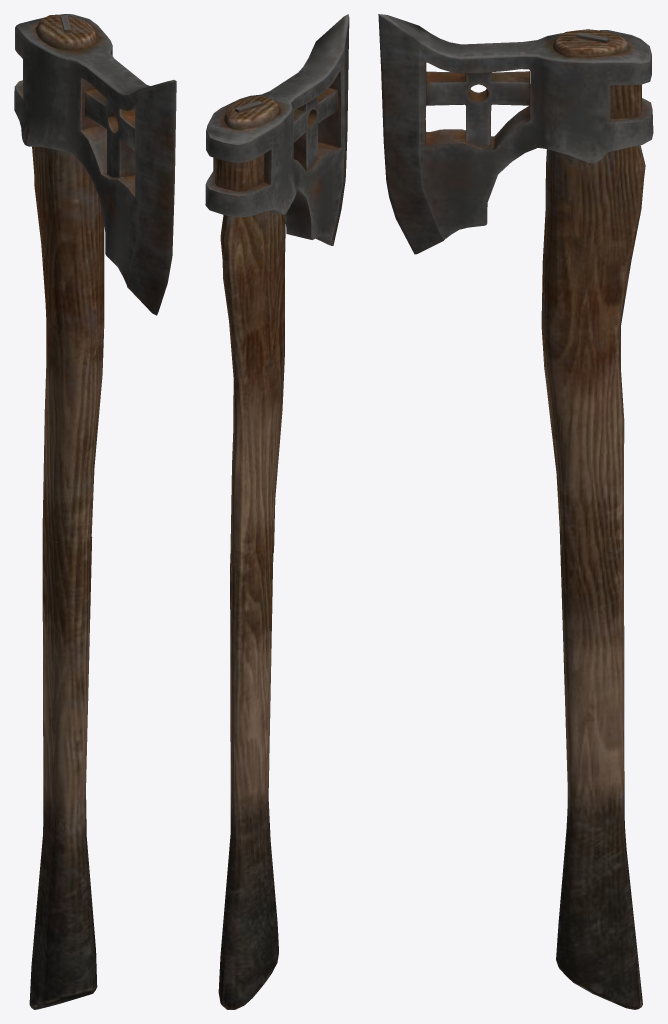
The model's file is wooden_axe_03.glb.
The picture shows the model from 3 angles, left to right: view 1: azimuth 30°, elevation 25°; view 2: azimuth 150°, elevation 25°; view 3: azimuth 270°, elevation 25°; orthographic projection. The views are drawn at different scales.
Parts seen in each view (by area): view 1: wooden_axe_03; view 2: wooden_axe_03; view 3: wooden_axe_03.
Part boxes in pixels (left/top/right/bottom): wooden_axe_03: left=14, top=14, right=176, bottom=1009; wooden_axe_03: left=205, top=14, right=349, bottom=1009; wooden_axe_03: left=378, top=14, right=653, bottom=1009.
Size of the model in its own units: 0.0505 by 0.6318 by 0.1585.
Materials: 1 (1 with a texture image).
